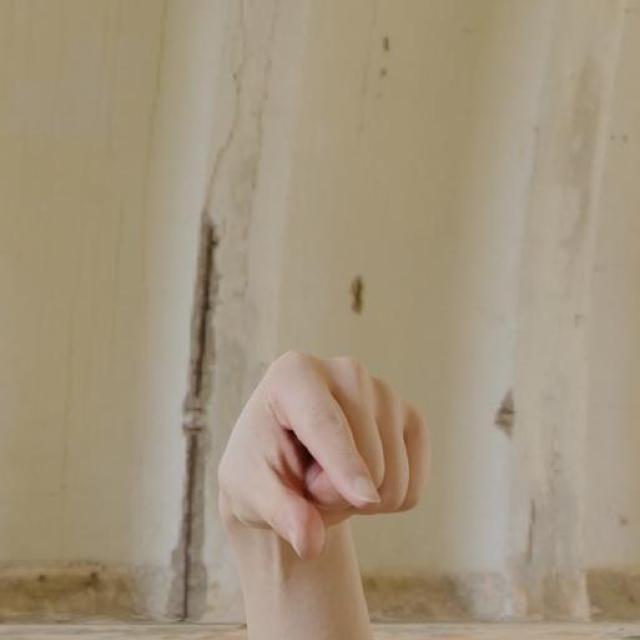Q: (214, 347, 436, 563)
